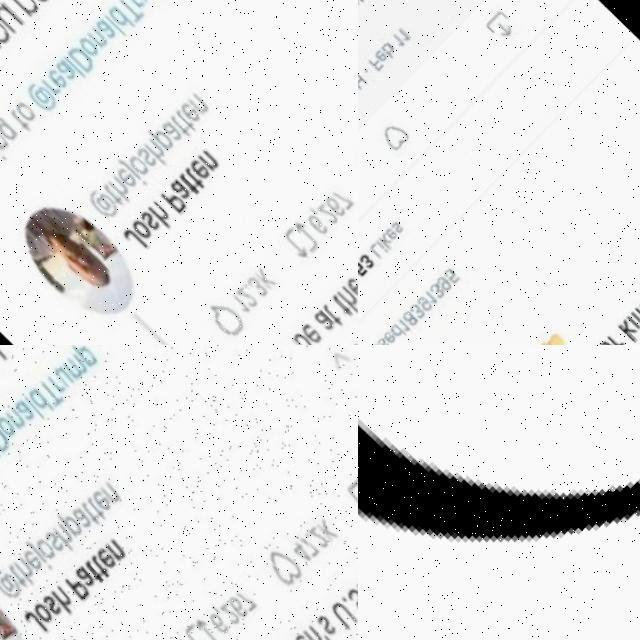1: (225, 293, 249, 317), (393, 318, 409, 334), (420, 290, 436, 306), (388, 33, 404, 49), (393, 28, 409, 44)
2: (213, 601, 241, 628), (302, 525, 329, 552), (230, 285, 256, 311), (312, 201, 337, 227)
3: (240, 274, 267, 300), (405, 303, 424, 321), (425, 282, 443, 301), (358, 252, 372, 269)
4: (284, 541, 311, 567)
5: (440, 267, 458, 284), (358, 260, 364, 277)
6: (201, 610, 229, 638), (221, 594, 248, 622), (319, 194, 345, 220), (301, 212, 327, 237)
7: (228, 587, 257, 616), (291, 533, 320, 561), (326, 187, 352, 212)
8: (399, 310, 417, 328)
9: (413, 295, 431, 313), (432, 276, 450, 293)
C: (358, 417, 640, 538)
